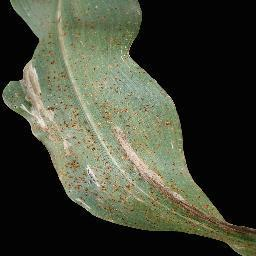Corn_Common_Rust: (3, 99, 256, 254), (0, 0, 170, 100)
